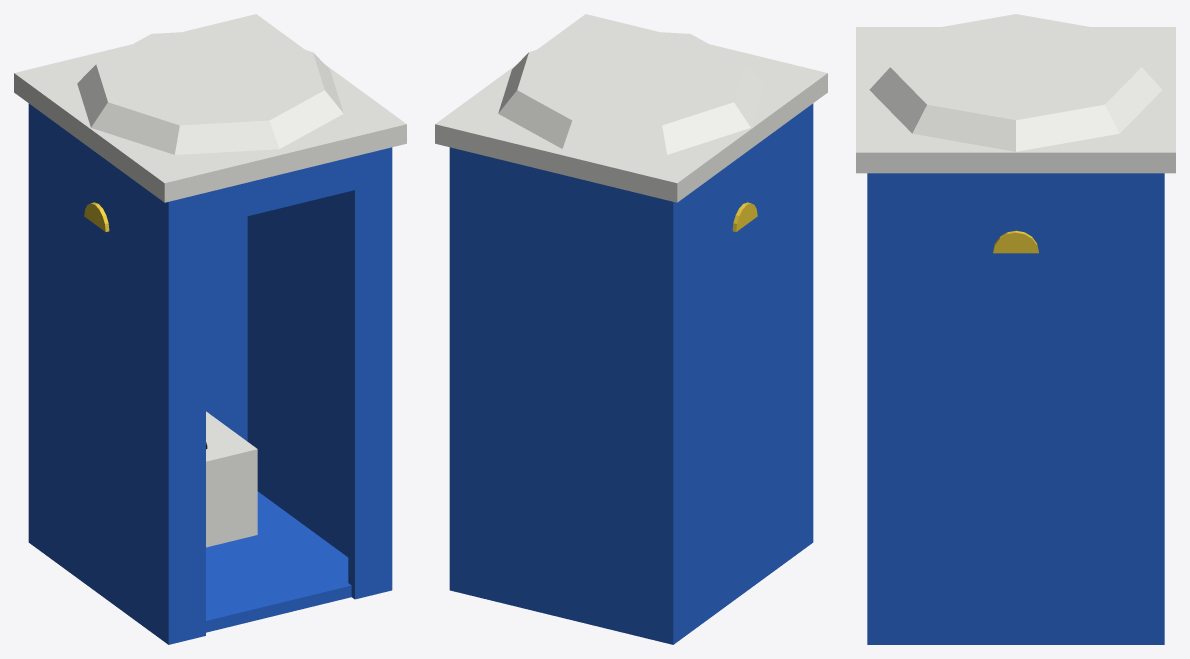
The model's file is chemical_toilet.glb.
3 renders of one model, left to right at view 1: azimuth 30°, elevation 25°; view 2: azimuth 150°, elevation 25°; view 3: azimuth 270°, elevation 25°, orthographic. The views are drawn at different scales.
Parts seen in each view (by area): view 1: booth_toilet_blue, booth_toilet_white, seat_toilet_white; view 2: booth_toilet_blue, booth_toilet_white; view 3: booth_toilet_blue, booth_toilet_white, booth_moon.
Part boxes in pixels (x1,y1,x2,y2): booth_toilet_blue: (28,103,392,644); booth_toilet_white: (14,14,406,202); seat_toilet_white: (206,411,257,547); booth_toilet_blue: (449,103,813,644); booth_toilet_white: (435,14,827,202); booth_toilet_blue: (867,173,1164,644); booth_toilet_white: (856,14,1175,173); booth_moon: (993,230,1038,253).
Size of the model in its own units: 1.3 by 2.51 by 1.4.
